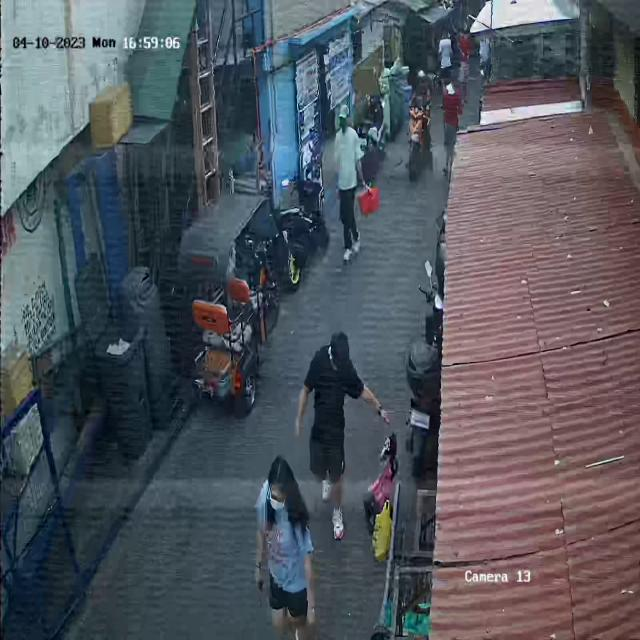human: (293, 334, 397, 543), (254, 457, 312, 640), (336, 104, 380, 266)
trash: (359, 414, 396, 564), (358, 183, 382, 219)
